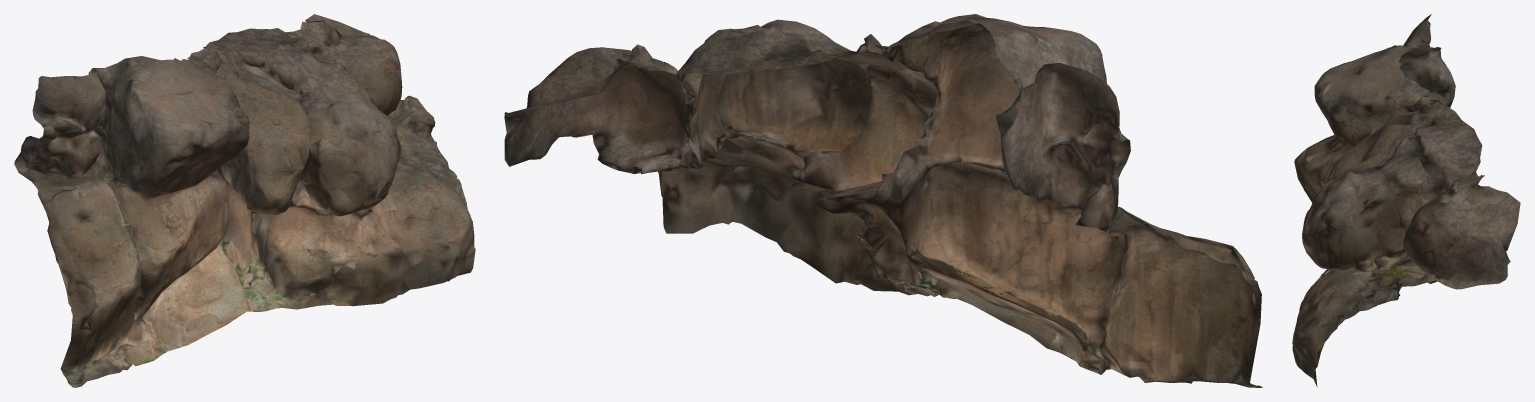
File: ph_namaqualand_cliff_01_lod0.glb
The picture shows the model from 3 angles, left to right: view 1: azimuth 30°, elevation 25°; view 2: azimuth 150°, elevation 25°; view 3: azimuth 270°, elevation 25°; orthographic projection. The views are drawn at different scales.
Parts seen in each view (by area): view 1: drone_rock_01; view 2: drone_rock_01; view 3: drone_rock_01.
Part boxes in pixels (<box>): drone_rock_01: <box>14,14,475,387</box>; drone_rock_01: <box>504,14,1262,387</box>; drone_rock_01: <box>1292,14,1520,386</box>.
Bounding box in the file's own units: 8.27 × 4.96 × 4.38.
1 material, 1 textured.
